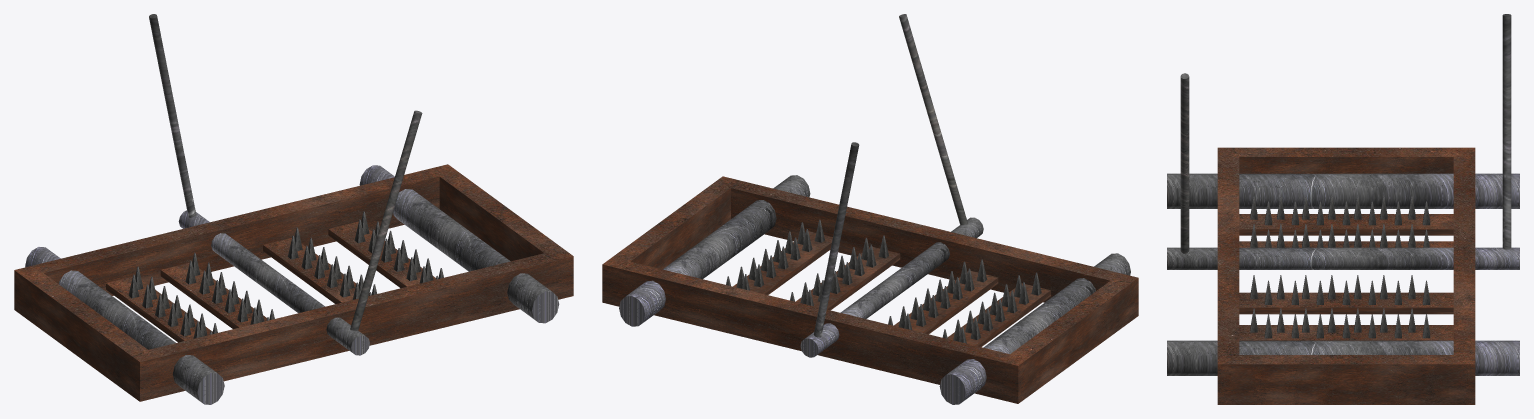
File: toture01.fbx
The picture shows the model from 3 angles, left to right: view 1: azimuth 30°, elevation 25°; view 2: azimuth 150°, elevation 25°; view 3: azimuth 270°, elevation 25°; orthographic projection. The views are drawn at different scales.
Parts seen in each view (by area): view 1: Box001, Cylinder014, Cylinder002, Cylinder011, Cylinder013, Cylinder012, Box003, Box002, Box005, Box004; view 2: Box001, Cylinder014, Cylinder002, Cylinder011, Cylinder013, Cylinder012, Box004, Box003, Box005, Box002; view 3: Box001, Cylinder002, Cylinder011, Cylinder014, Box002, Box005, Box004, Cylinder012, Cylinder013, Box003.
Part boxes in pixels (x1,y1,x2,y2): Box001: (14,164,573,401); Cylinder014: (359,165,559,323); Cylinder002: (25,247,224,404); Cylinder011: (178,210,369,355); Cylinder013: (350,110,422,330); Cylinder012: (149,14,196,217); Box003: (160,263,266,328); Box002: (263,238,369,303); Box005: (106,276,212,342); Box004: (328,221,435,288); Box001: (602,176,1138,403); Cylinder014: (619,175,810,326); Cylinder002: (939,253,1130,404); Cylinder011: (800,217,983,357); Cylinder013: (899,14,967,225); Cylinder012: (813,142,859,337); Box004: (733,231,832,294); Box003: (894,271,998,334); Box005: (947,283,1050,347); Box002: (795,247,900,310); Box001: (1217,147,1475,404); Cylinder002: (1167,173,1519,208); Cylinder011: (1167,247,1519,269); Cylinder014: (1167,340,1519,375); Box002: (1239,292,1453,314); Box005: (1239,214,1453,235); Box004: (1239,325,1453,340); Cylinder012: (1502,14,1511,249); Cylinder013: (1180,73,1189,253); Box003: (1239,241,1453,247).
Bounding box in the file's own units: 120 × 64.94 × 82.68.
